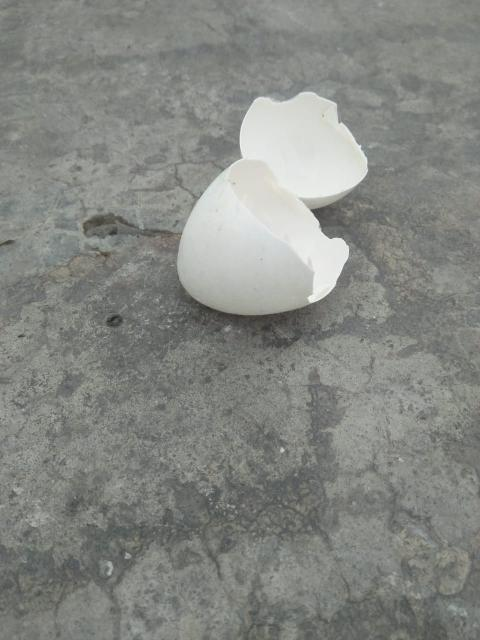Roto: (175, 160, 351, 317), (238, 90, 368, 210)
